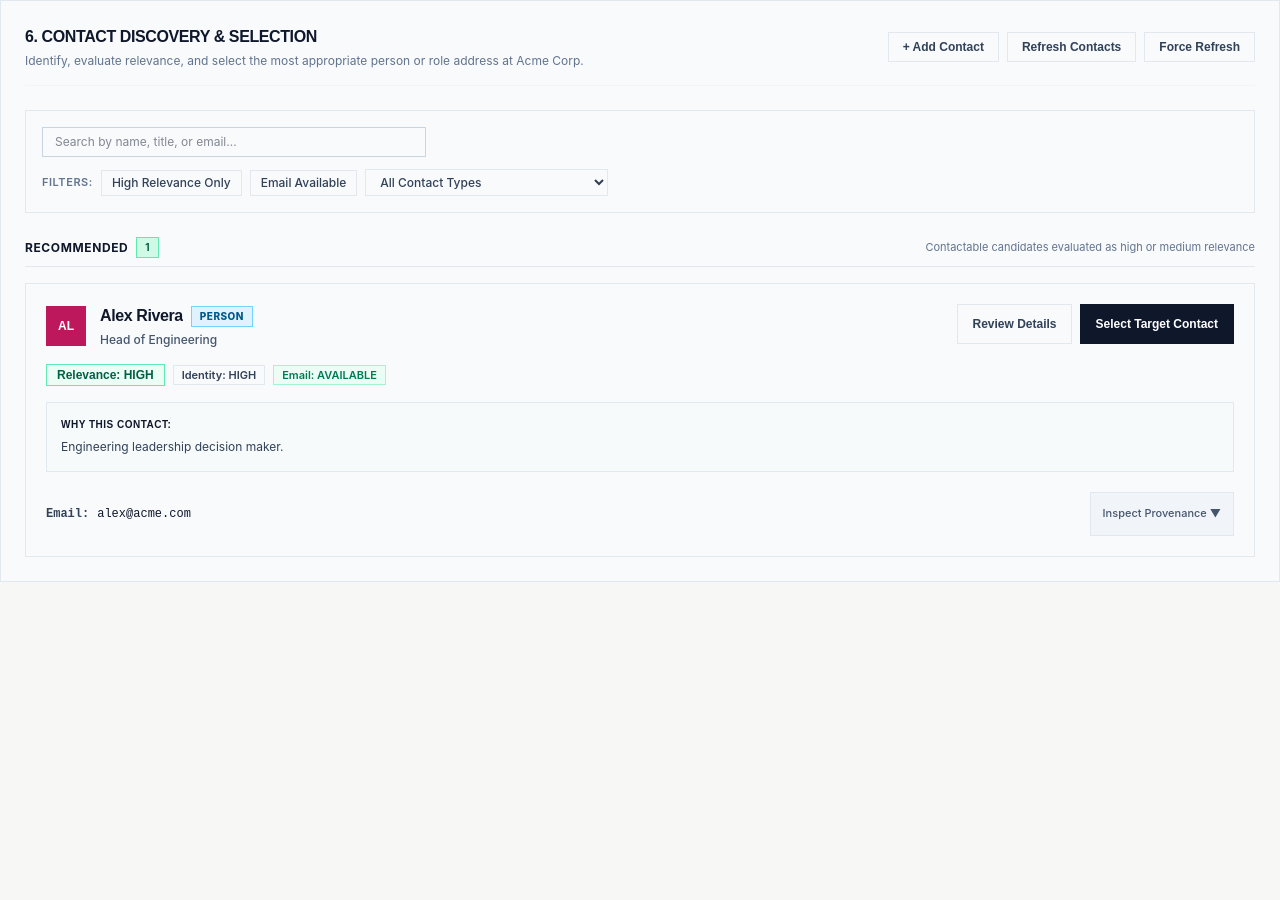
Test case: ContactDiscoveryWorkspace Component - UX-004 Contact Discovery & Selection › selects a contact, resolves canonical company campaign, and binds contact into PENDING state
Click the button "Select Target Contact" at (1157, 324), box x1=1080 y1=304 x2=1234 y2=344
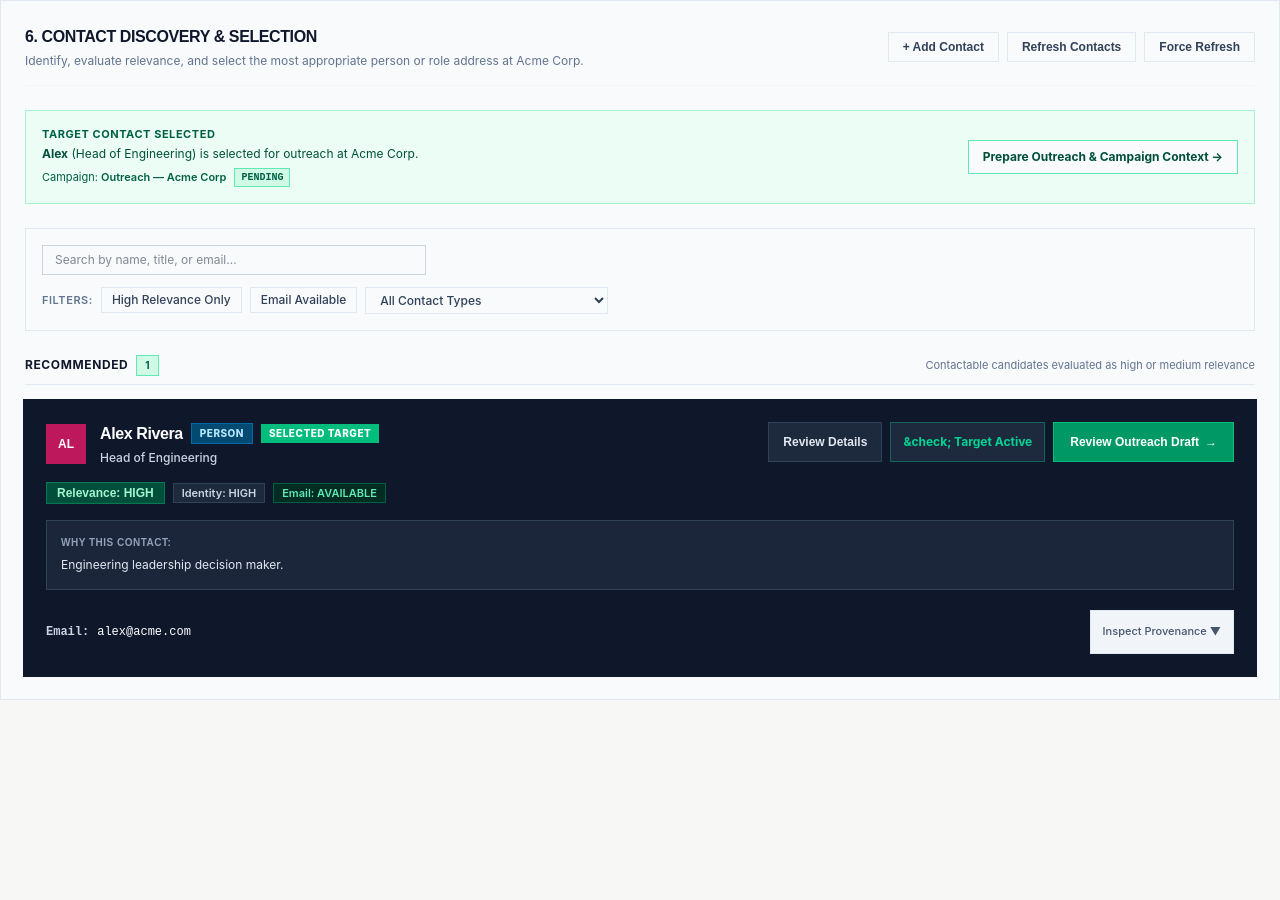
Result: the text "Outreach — Acme Corp" is shown at x1=101 y1=170 x2=226 y2=184
Result: the text "PENDING" is shown at x1=234 y1=168 x2=290 y2=187
Result: the button "Review Outreach Draft →" is shown at x1=1053 y1=422 x2=1234 y2=462
